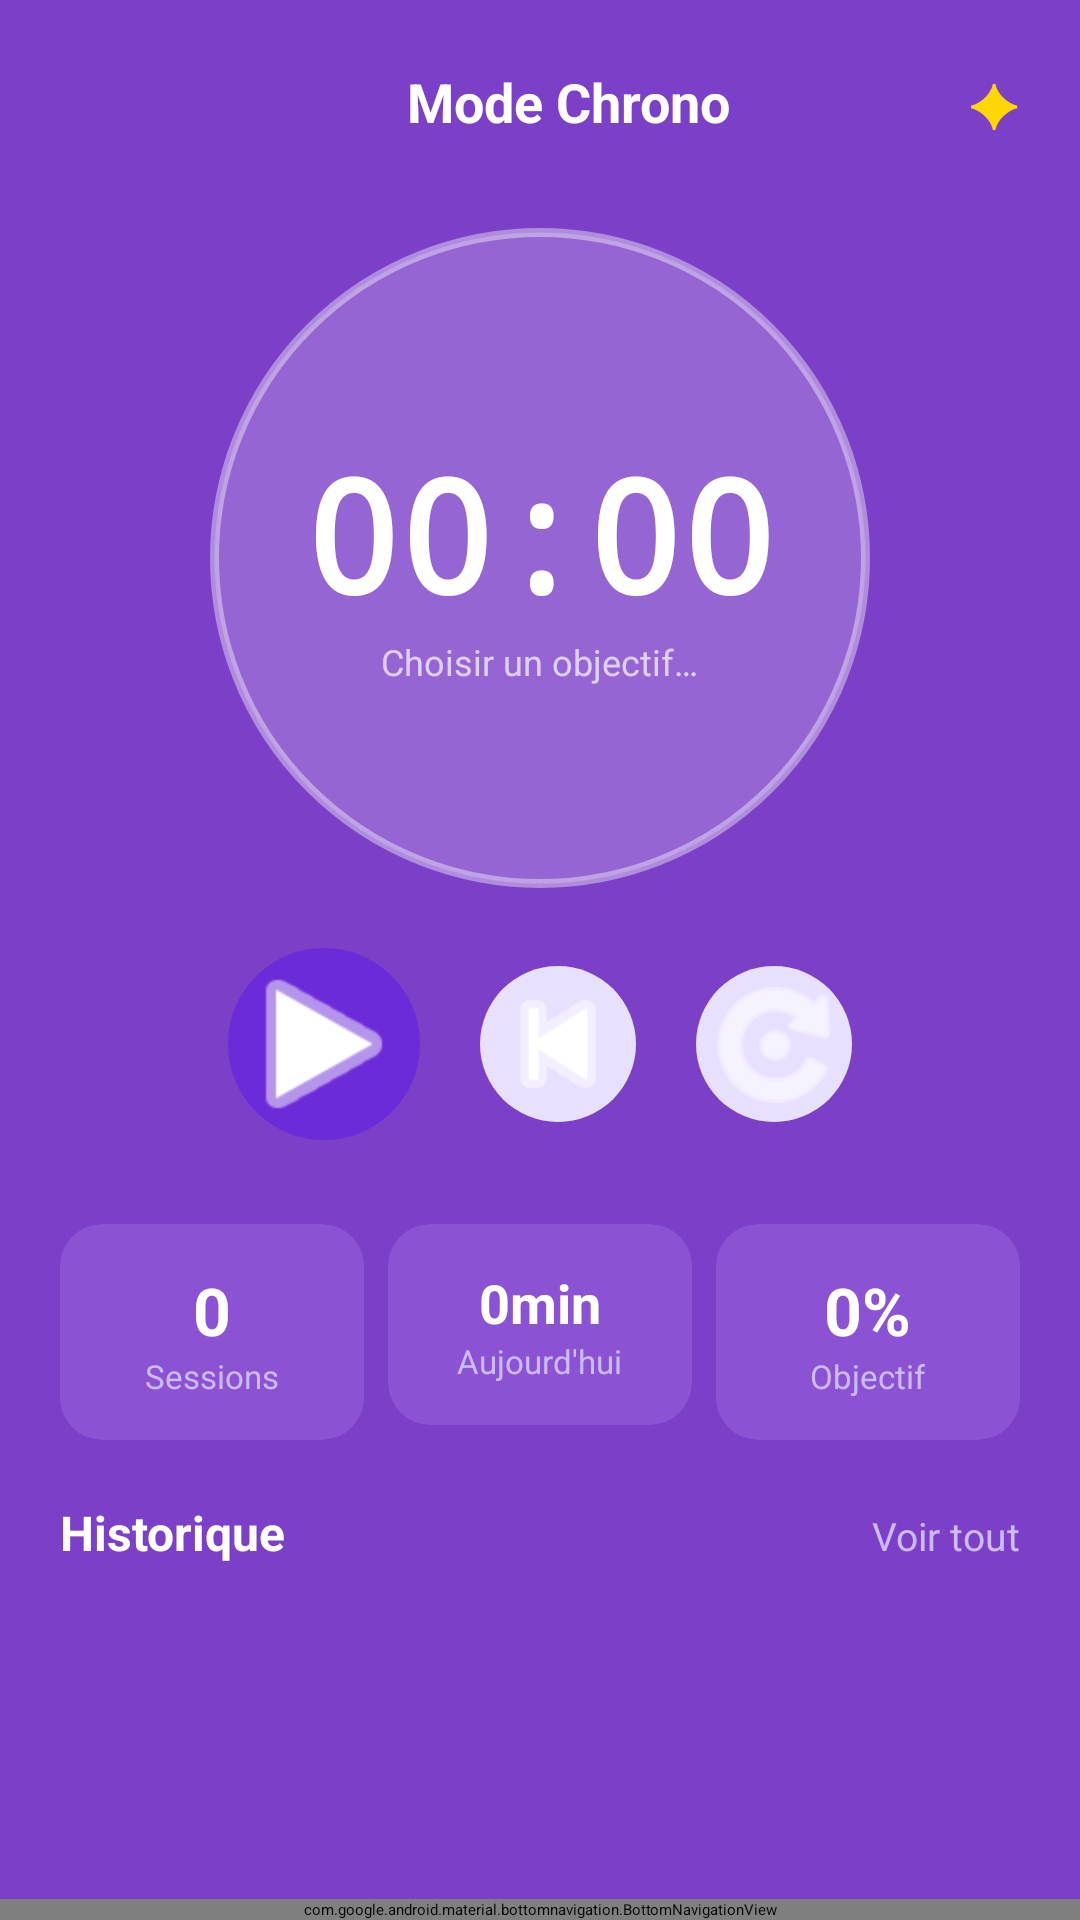

Icon click points for this 1080px x 1920px phone screenshot, format point (x, y):
play: point (324, 1044)
previous: point (558, 1044)
rotate: point (774, 1044)
